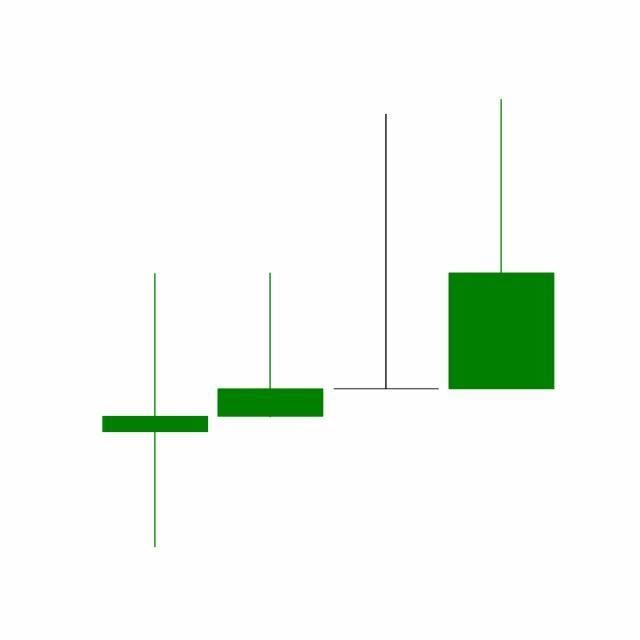Gravestone Doji: (329, 111, 445, 393)
